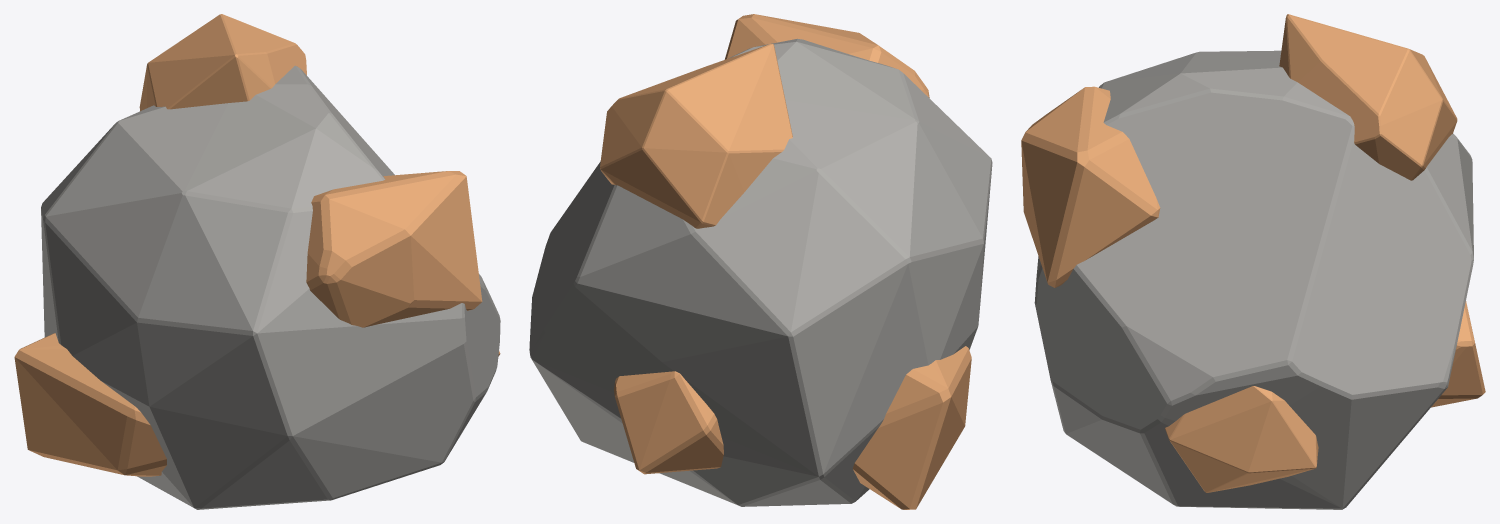
Rendered from iron_ore.glb.
The picture shows the model from 3 angles, left to right: view 1: azimuth 30°, elevation 25°; view 2: azimuth 150°, elevation 25°; view 3: azimuth 270°, elevation 25°; orthographic projection. The views are drawn at different scales.
Parts seen in each view (by area): view 1: IronOre; view 2: IronOre; view 3: IronOre.
Boxes of the visible parts, x1=… form: IronOre: x1=14, y1=14, x2=500, y2=509; IronOre: x1=529, y1=14, x2=992, y2=509; IronOre: x1=1021, y1=14, x2=1485, y2=509.
Bounding box in the file's own units: 0.263 × 0.2524 × 0.2406.
